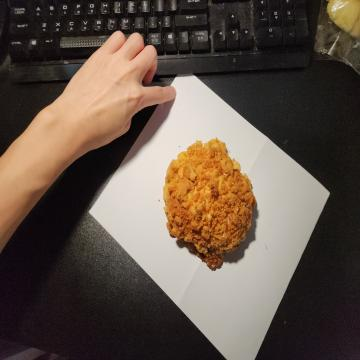soboru_bread: (165, 139, 255, 263)
